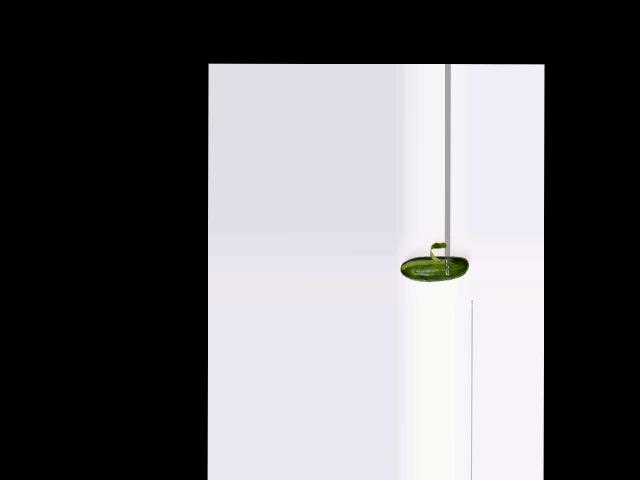cucumber: (400, 255, 469, 281)
